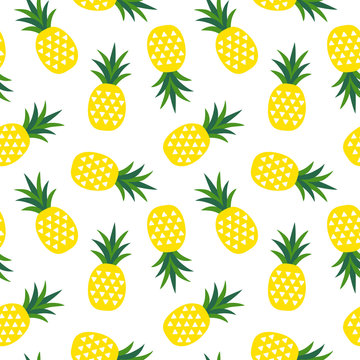Pineapple: (194, 172, 260, 255), (162, 101, 244, 167), (15, 171, 79, 254), (162, 282, 242, 348), (195, 1, 261, 77), (14, 1, 80, 77), (1, 99, 67, 165), (145, 203, 193, 292), (72, 152, 157, 202), (86, 41, 133, 130), (87, 223, 135, 310), (1, 281, 64, 347), (252, 153, 337, 201), (147, 24, 192, 114), (268, 222, 312, 313), (269, 42, 312, 133), (327, 24, 360, 113)
